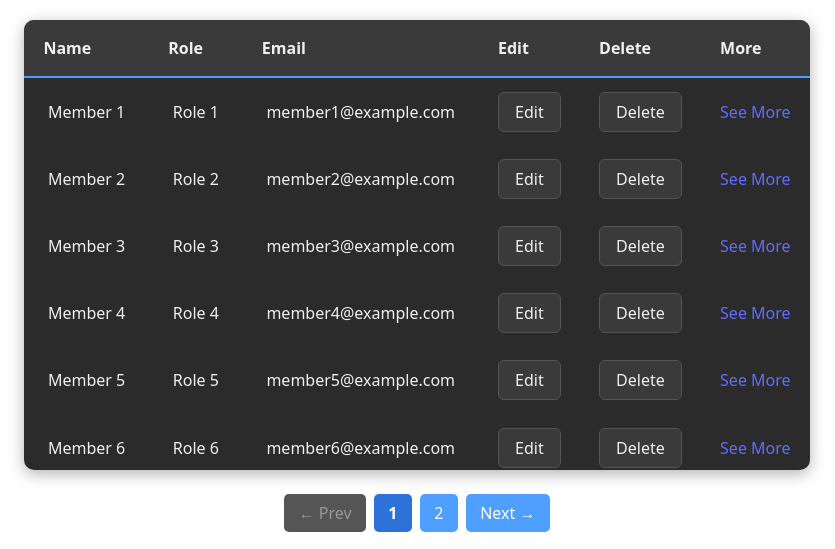
Test: SearchResultTable › renders pagination if >10 results and handles page changes
Check: the text "Member 1" is shown, box [24,78,149,145]
Check: the text "Member 11" is not shown
Note: Move to page 2
Click the button "2".
click(439, 513)  # box [420,494,458,532]
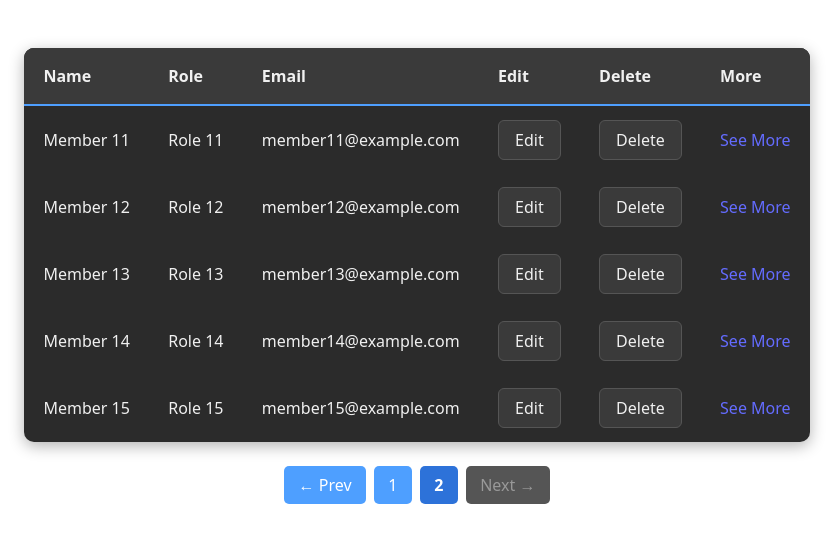
Check: the text "Member 11" is shown, box [24,106,149,173]
